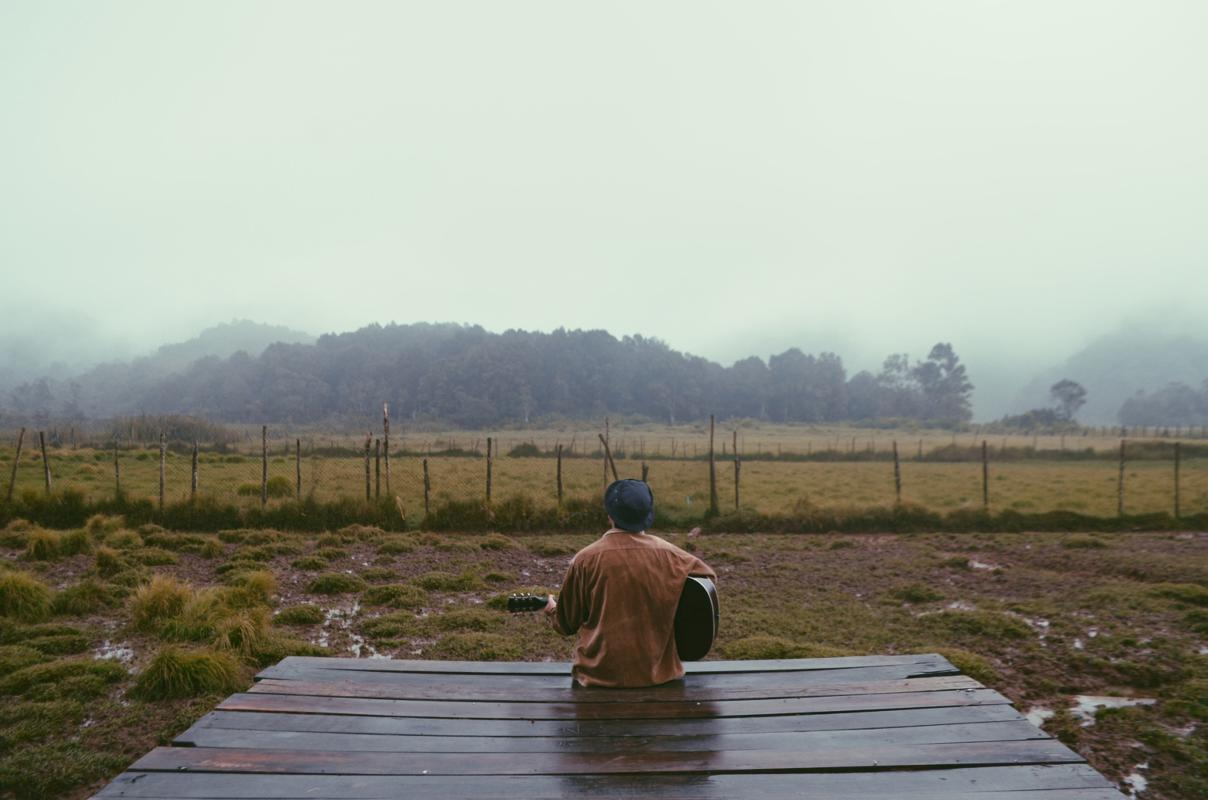Person: (543, 479, 719, 694)
